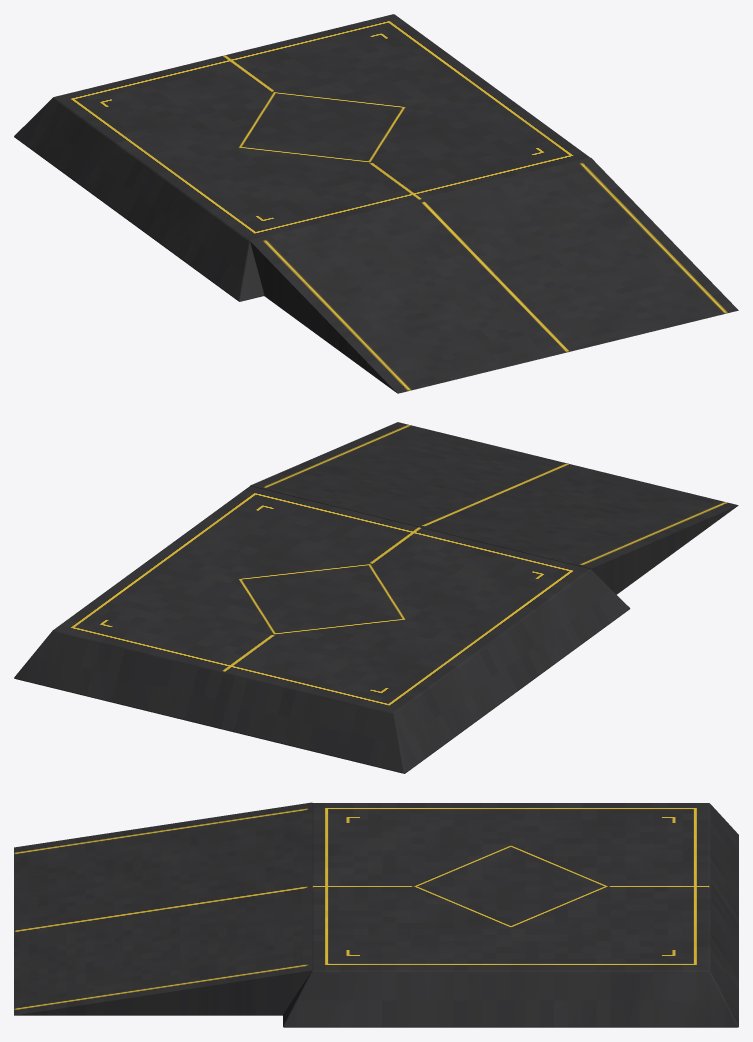
Rendered from launchpad_lowpoly.fbx.
3 renders of one model, top to bottom at view 1: azimuth 30°, elevation 25°; view 2: azimuth 150°, elevation 25°; view 3: azimuth 270°, elevation 25°, orthographic.
Visible parts, largest first — view 1: LaunchPad_Base, LaunchPad_Ramp; view 2: LaunchPad_Base, LaunchPad_Ramp; view 3: LaunchPad_Base, LaunchPad_Ramp.
Boxes of the visible parts, <box> form: LaunchPad_Base: <box>14,14,590,301</box>; LaunchPad_Ramp: <box>250,158,738,393</box>; LaunchPad_Base: <box>14,486,630,773</box>; LaunchPad_Ramp: <box>250,422,738,594</box>; LaunchPad_Base: <box>283,803,738,1027</box>; LaunchPad_Ramp: <box>14,802,312,1015</box>.
Size of the model in its own units: 45.88 by 5 by 72.94.
Materials: 2 (2 with a texture image).
